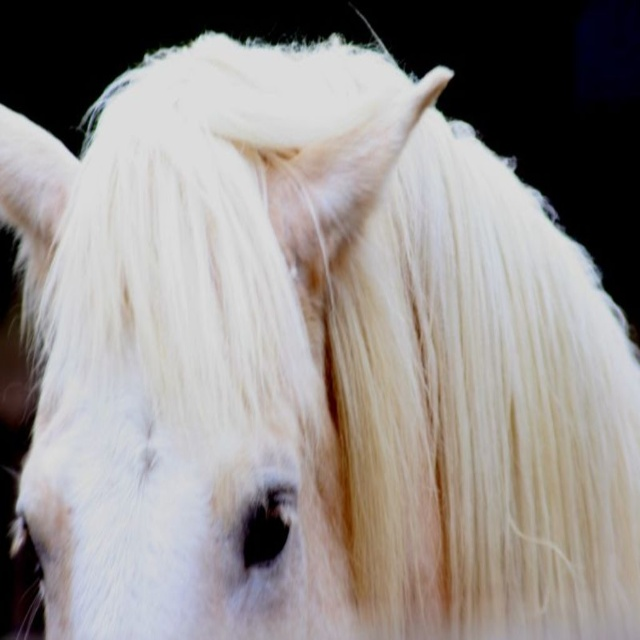Horse: (0, 10, 639, 639)
